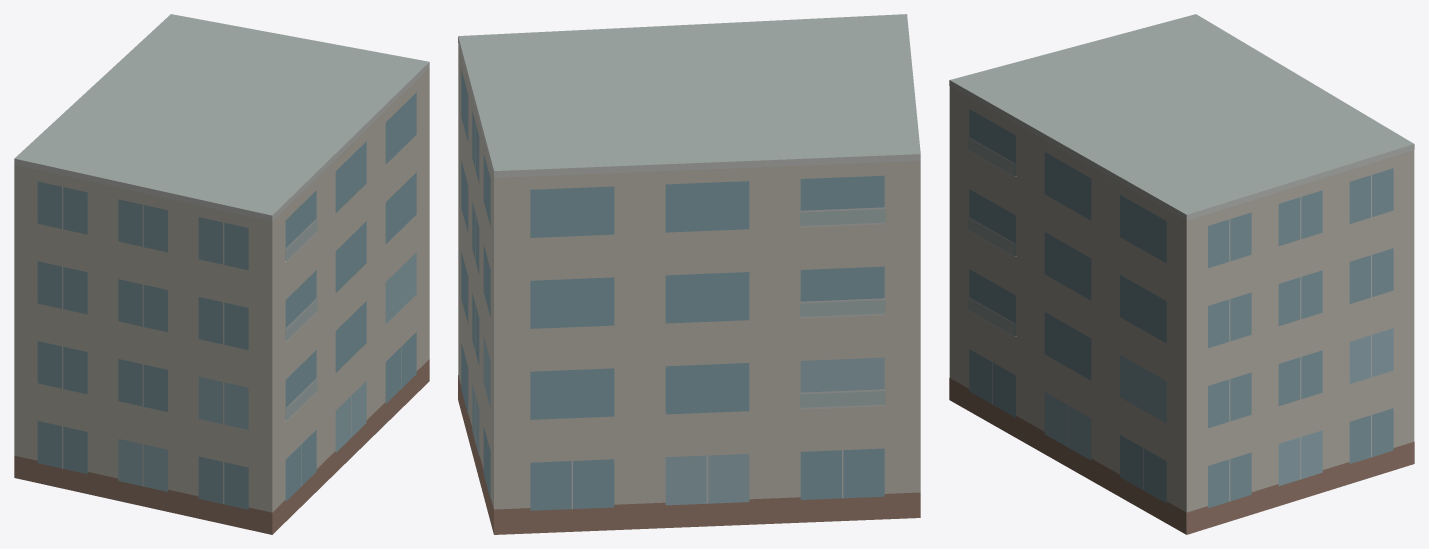
File: survey-upis-32984822.glb
The picture shows the model from 3 angles, left to right: view 1: azimuth 30°, elevation 25°; view 2: azimuth 150°, elevation 25°; view 3: azimuth 270°, elevation 25°; orthographic projection. The views are drawn at different scales.
Parts seen in each view (by area): view 1: survey-upis-32984822.tmp; view 2: survey-upis-32984822.tmp; view 3: survey-upis-32984822.tmp.
Boxes of the visible parts, box(x1,y1,x2,y2) form: survey-upis-32984822.tmp: box(14, 14, 429, 534); survey-upis-32984822.tmp: box(458, 14, 920, 534); survey-upis-32984822.tmp: box(949, 14, 1414, 534).
Size of the model in its own units: 17.78 by 13.2 by 17.39.
